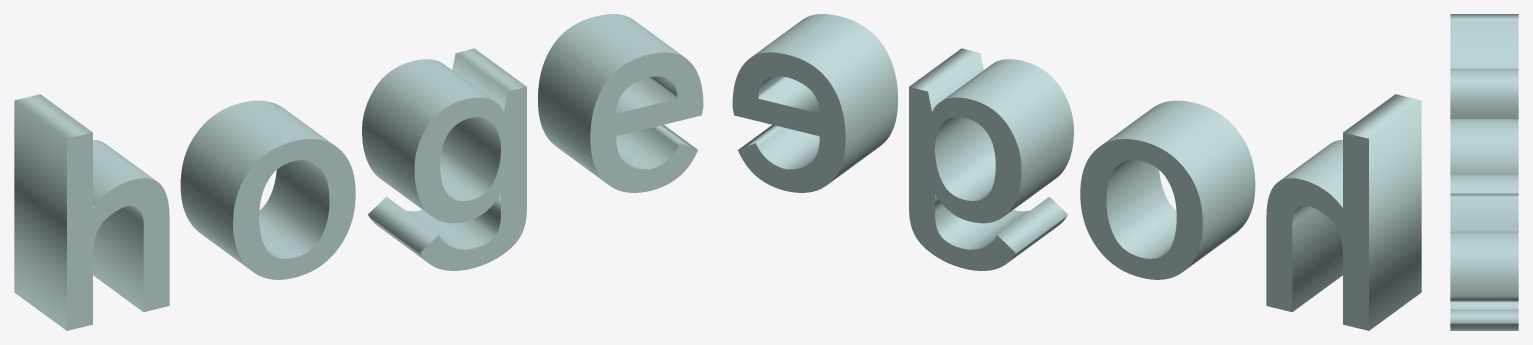
The model's file is hoge.obj.
3 renders of one model, left to right at view 1: azimuth 30°, elevation 25°; view 2: azimuth 150°, elevation 25°; view 3: azimuth 270°, elevation 25°, orthographic. The views are drawn at different scales.
Parts seen in each view (by area): view 1: name_Text; view 2: name_Text; view 3: name_Text.
Part boxes in pixels (x1,y1,x2,y2): name_Text: (14, 14, 703, 330); name_Text: (732, 14, 1421, 330); name_Text: (1450, 14, 1518, 330).
Size of the model in its own units: 1.93 by 0.6632 by 0.2759.
